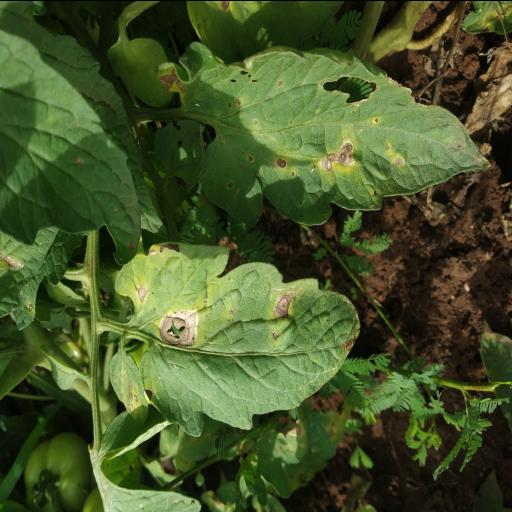Early Blight: (158, 44, 478, 226), (112, 238, 361, 440)
